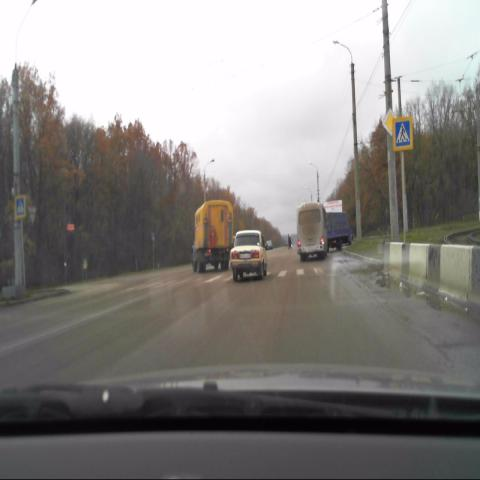2_1: (382, 110, 394, 135)
5_19_1: (393, 118, 413, 151), (14, 195, 26, 218)
